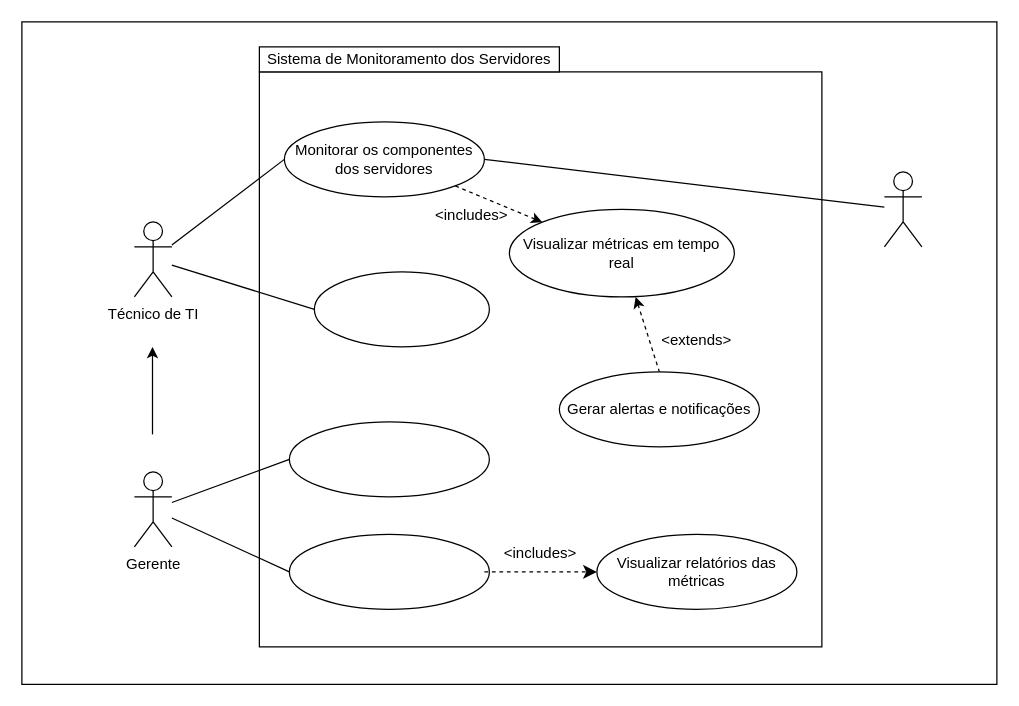
This 1019x706 diagram has some shape labels left out. The shapes that lost their labels are listed below. From the top down, each one's centre as x and y in pixels, then its label:
At (902,209): "Aplicação Safe Server".
At (401,309): "Abrir chamados".
At (388,459): "Cadastrar funcionários e técnicos".
At (388,571): "Acessar Dashboards".
